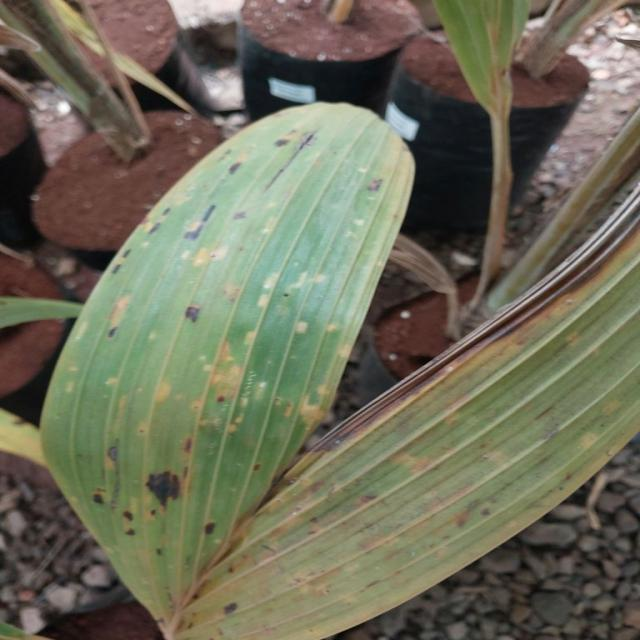gray leaf spot: (36, 100, 640, 640)
